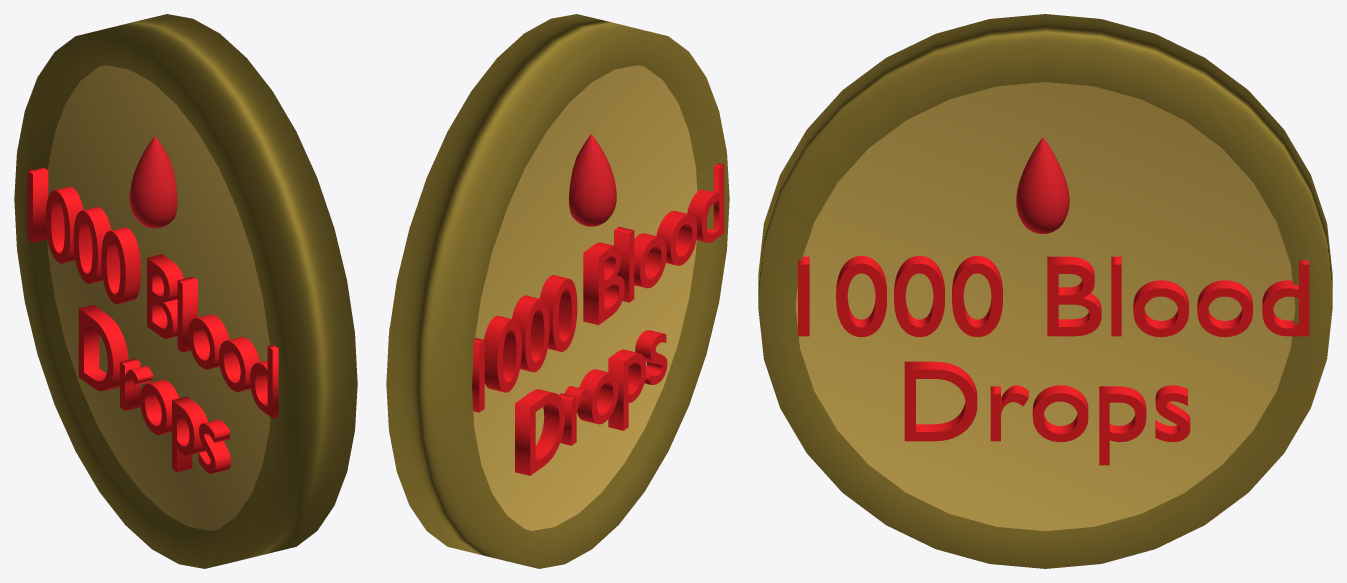
Rendered from coin.fbx.
The picture shows the model from 3 angles, left to right: view 1: azimuth 30°, elevation 25°; view 2: azimuth 150°, elevation 25°; view 3: azimuth 270°, elevation 25°; orthographic projection. The views are drawn at different scales.
Parts seen in each view (by area): view 1: Cylinder, Text, BezierCircle; view 2: Cylinder, Text, BezierCircle; view 3: Cylinder, Text.001, BezierCircle.001.
Part boxes in pixels (box(x1,y1,x2,y2)): Cylinder: box(14, 14, 357, 568); Text: box(27, 167, 278, 473); BezierCircle: box(129, 136, 177, 228); Cylinder: box(386, 14, 729, 568); Text: box(472, 163, 724, 475); BezierCircle: box(569, 134, 616, 226); Cylinder: box(758, 14, 1332, 568); Text.001: box(798, 256, 1309, 465); BezierCircle.001: box(1016, 138, 1069, 233).
Size of the model in its own units: 82.39 by 355 by 355.
